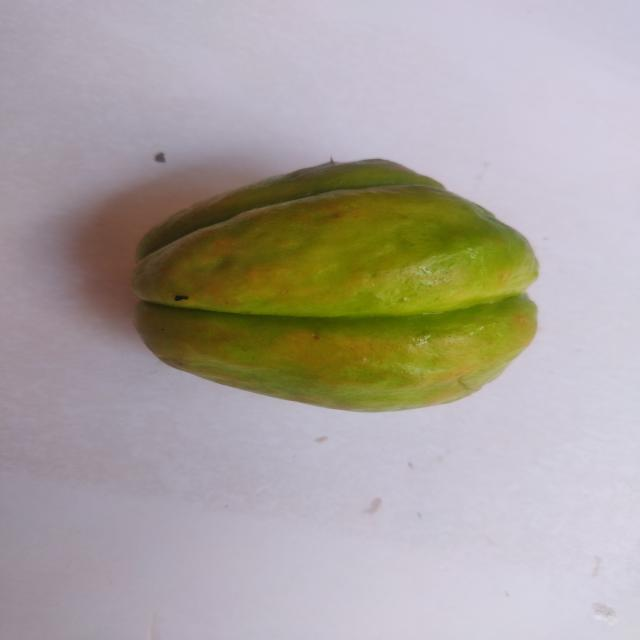Chayote: (102, 136, 584, 434)
